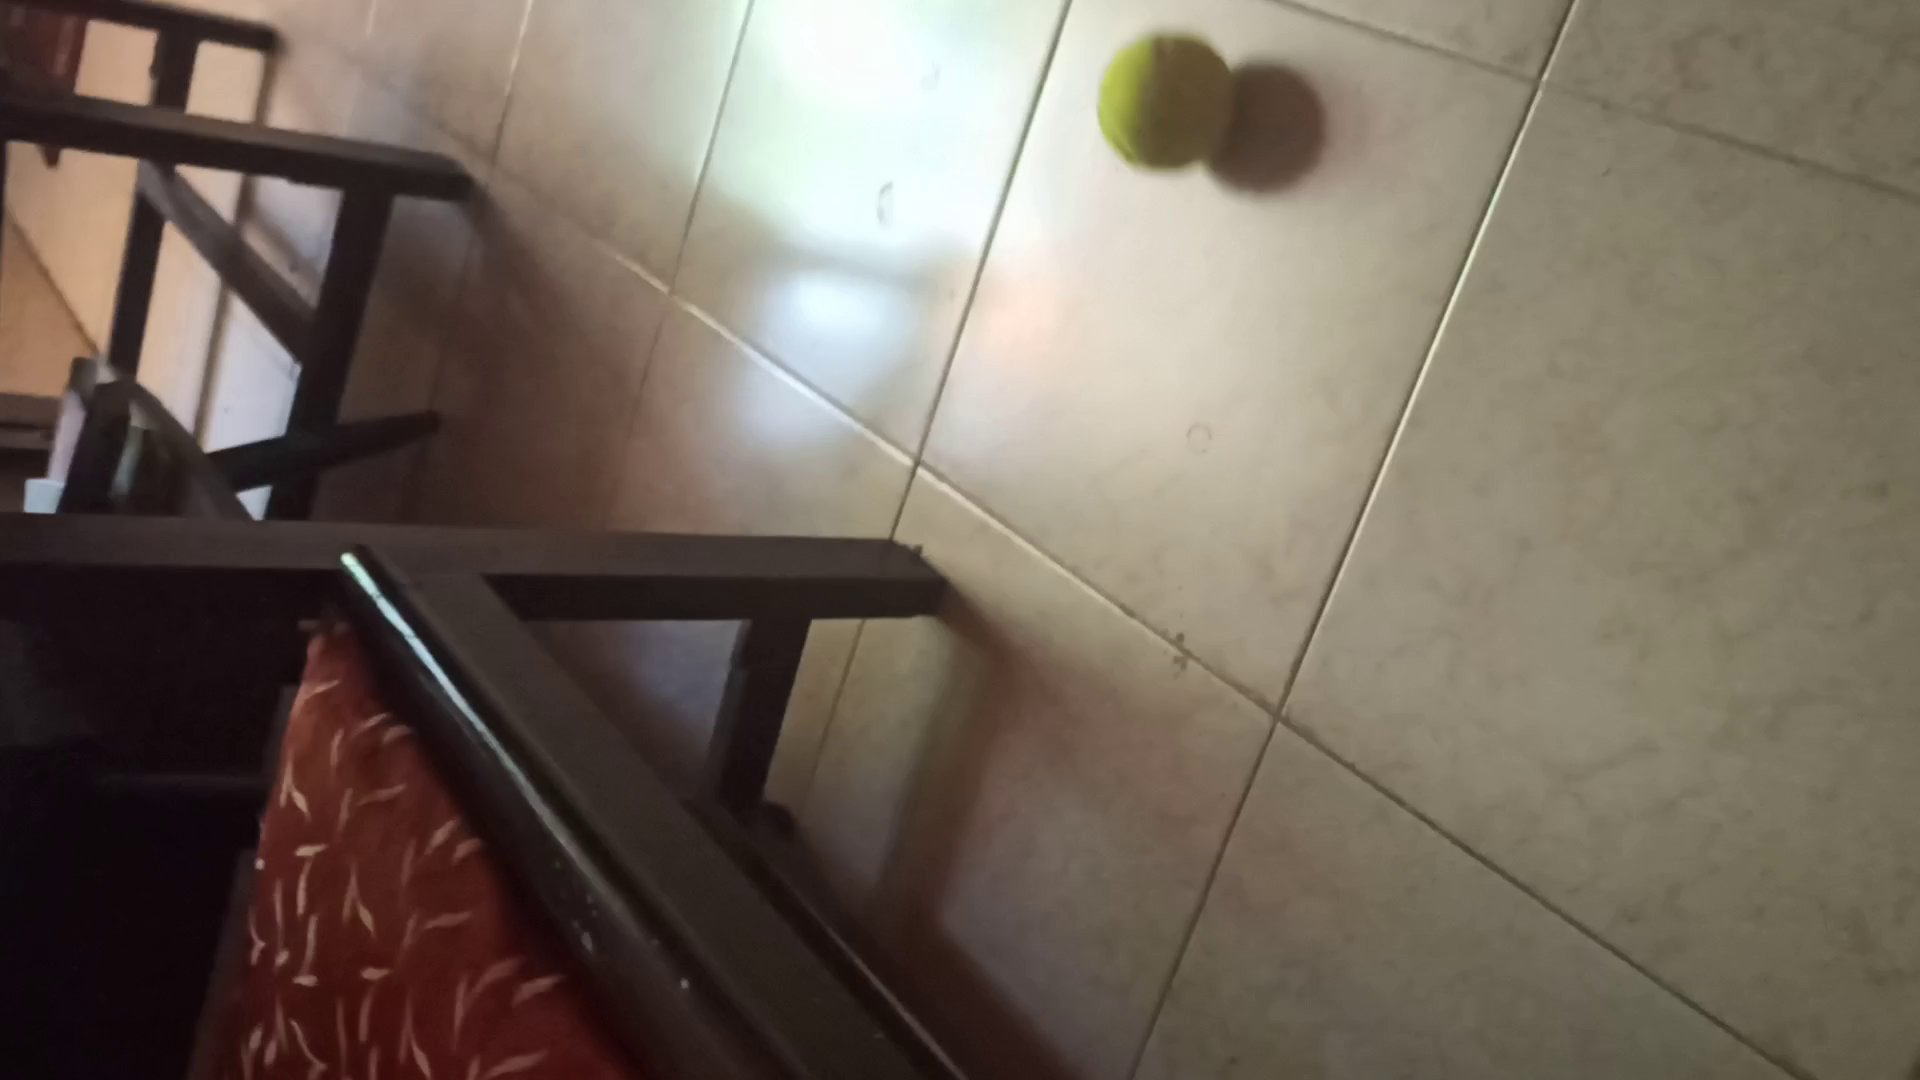Tennis-Ball: (1091, 32, 1240, 171)
